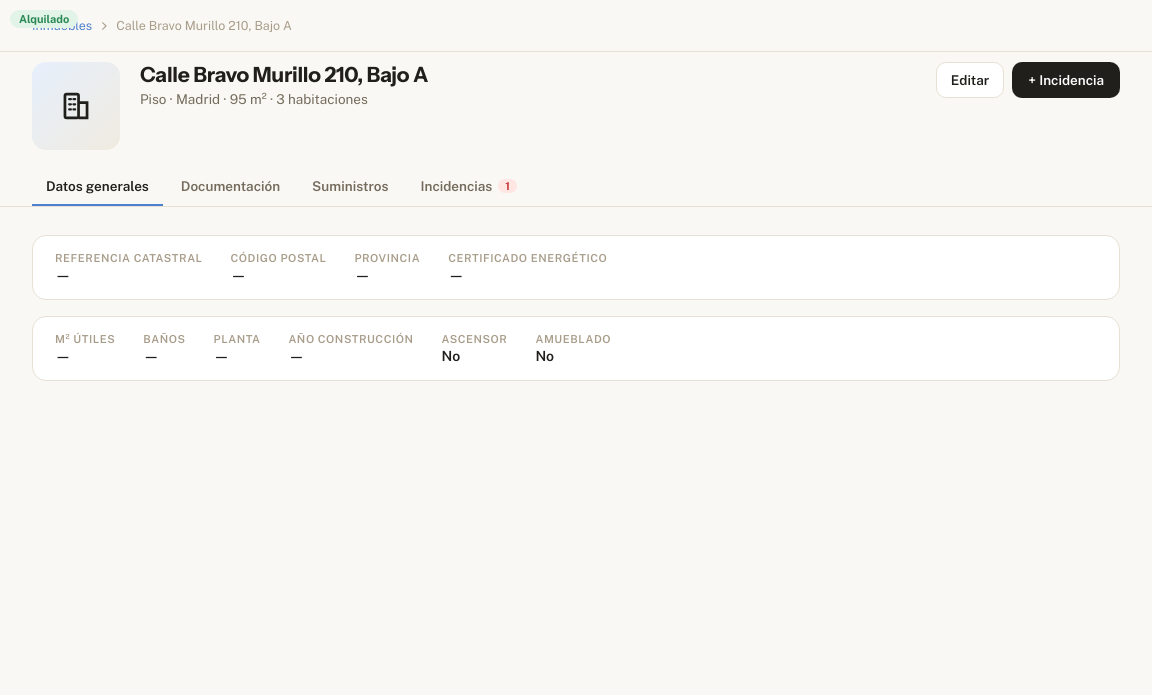
Test case: InmueblesFicha — Incidencias › las pills de prioridad y estado usan las clases de color del mockup
Click the button "Incidencias 1" at x=469, y=187, box left=406, top=168, right=531, bottom=206
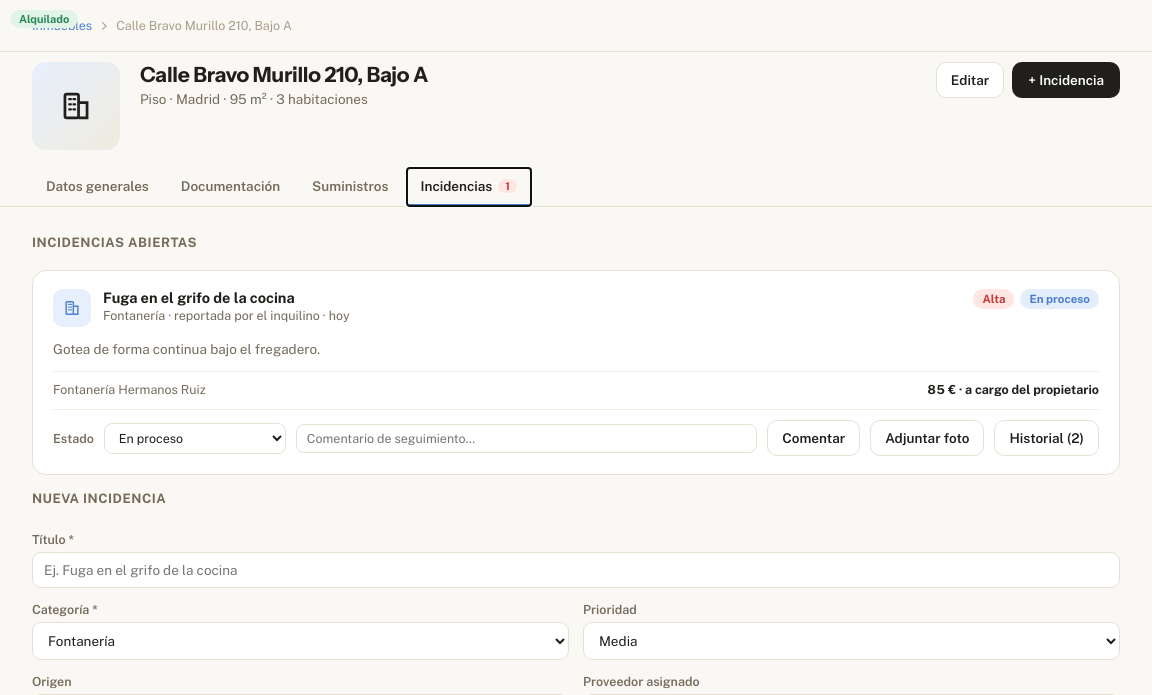
Expected: the text "Fuga en el grifo de la cocina" is shown, left=103, top=289, right=295, bottom=306
Expected: the text "Alta" is shown, left=974, top=289, right=1014, bottom=309
Expected: the text "En proceso" is shown, left=1020, top=289, right=1099, bottom=309
